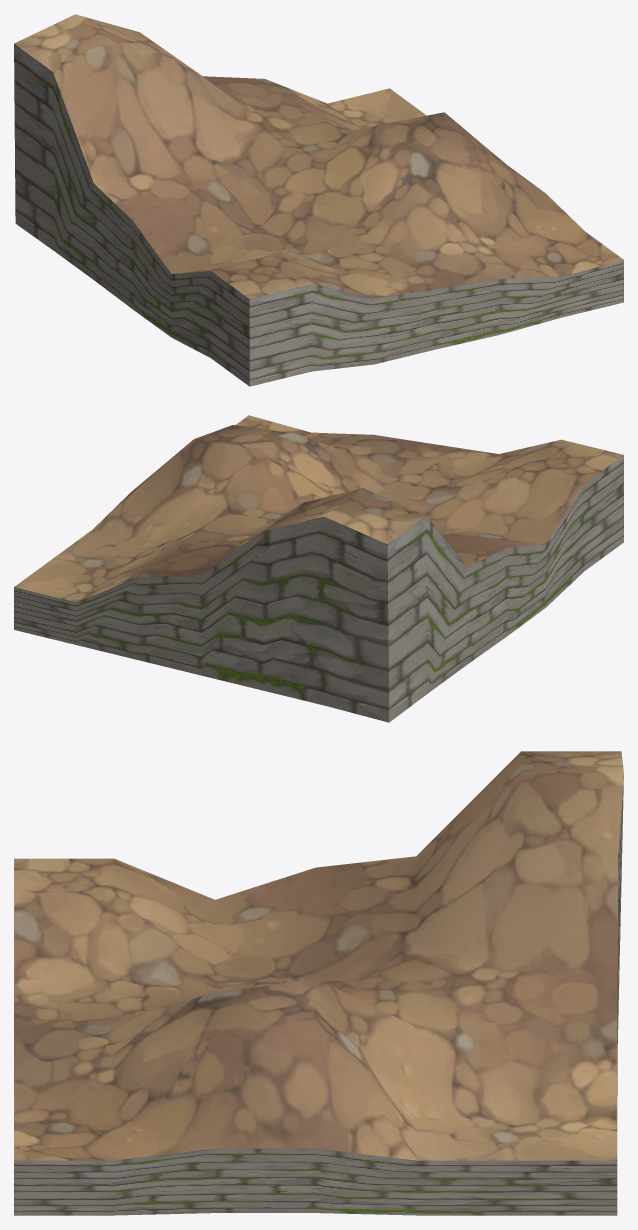
The model's file is wood_boxel02.fbx.
The picture shows the model from 3 angles, top to bottom: view 1: azimuth 30°, elevation 25°; view 2: azimuth 150°, elevation 25°; view 3: azimuth 270°, elevation 25°; orthographic projection. The views are drawn at different scales.
Visible parts, largest first — view 1: wood_boxel02; view 2: wood_boxel02; view 3: wood_boxel02.
Part boxes in pixels (x1=…): wood_boxel02: x1=14, y1=14, x2=623, y2=386; wood_boxel02: x1=14, y1=415, x2=623, y2=722; wood_boxel02: x1=14, y1=751, x2=623, y2=1215.
Bounding box in the file's own units: 89.56 × 44.17 × 98.15.
Materials: 1 (1 with a texture image).
